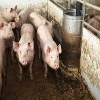heo: (11, 39, 36, 67), (41, 43, 62, 72), (1, 20, 16, 40)
